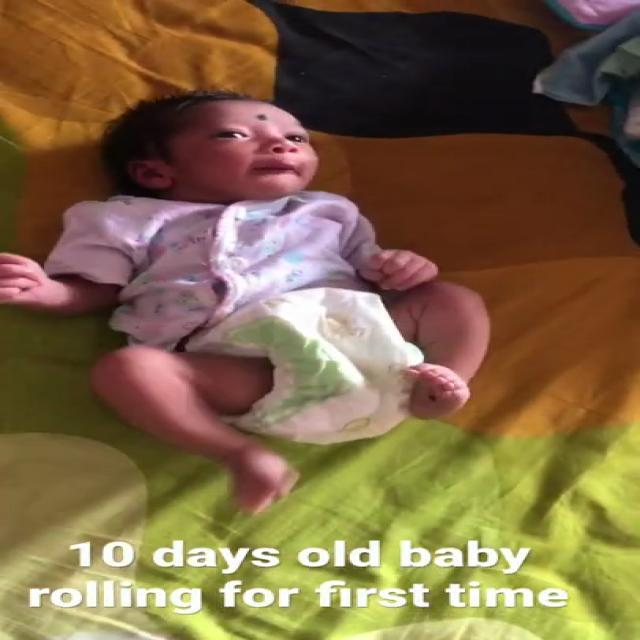baby: (0, 88, 498, 512)
